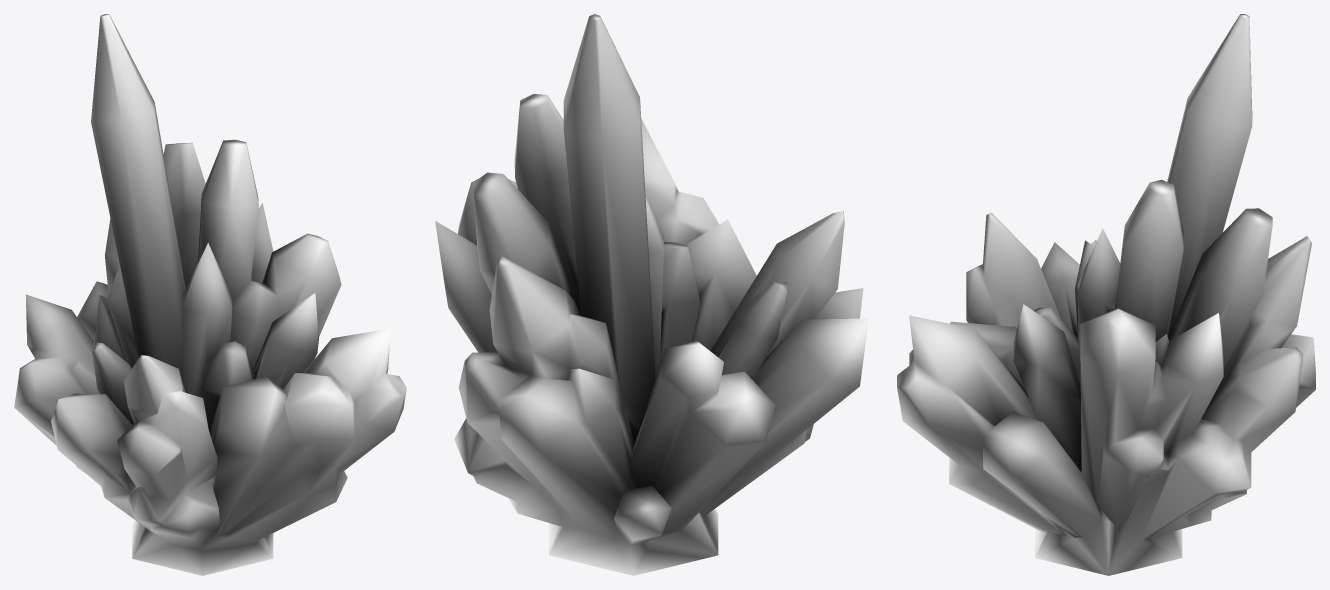
The model's file is crystal001.obj.
3 views of the same model, side by side, from view 1: azimuth 30°, elevation 25°; view 2: azimuth 150°, elevation 25°; view 3: azimuth 270°, elevation 25° (orthographic). The views are drawn at different scales.
Size of the model in its own units: 0.6682 by 1 by 0.7466.
1 material, 1 textured.
